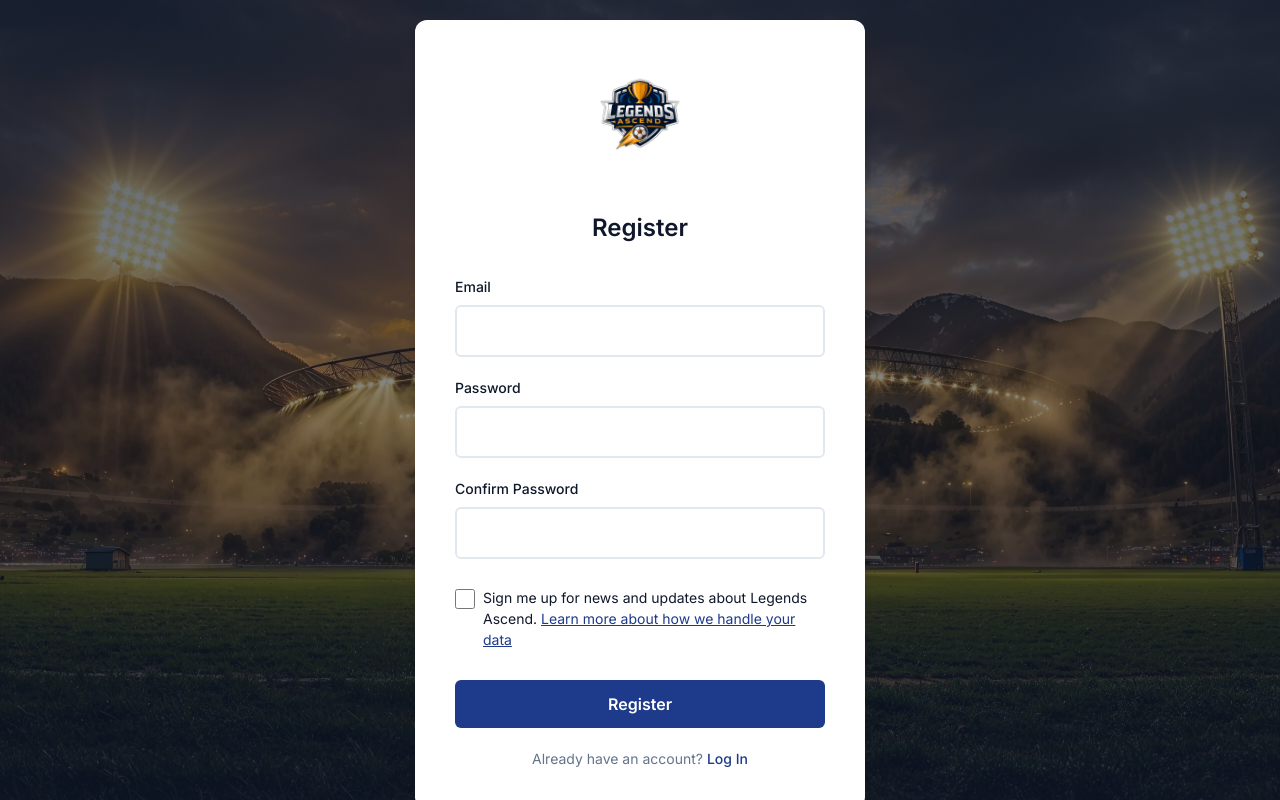
RegisterPage - Newsletter Opt-In (US-048) › Form validation with newsletter checkbox › should still show password validation errors even if newsletter is checked
Step 1. Type "test@example.com" into the field labelled "Email" → (640, 331), box x1=455 y1=305 x2=825 y2=357
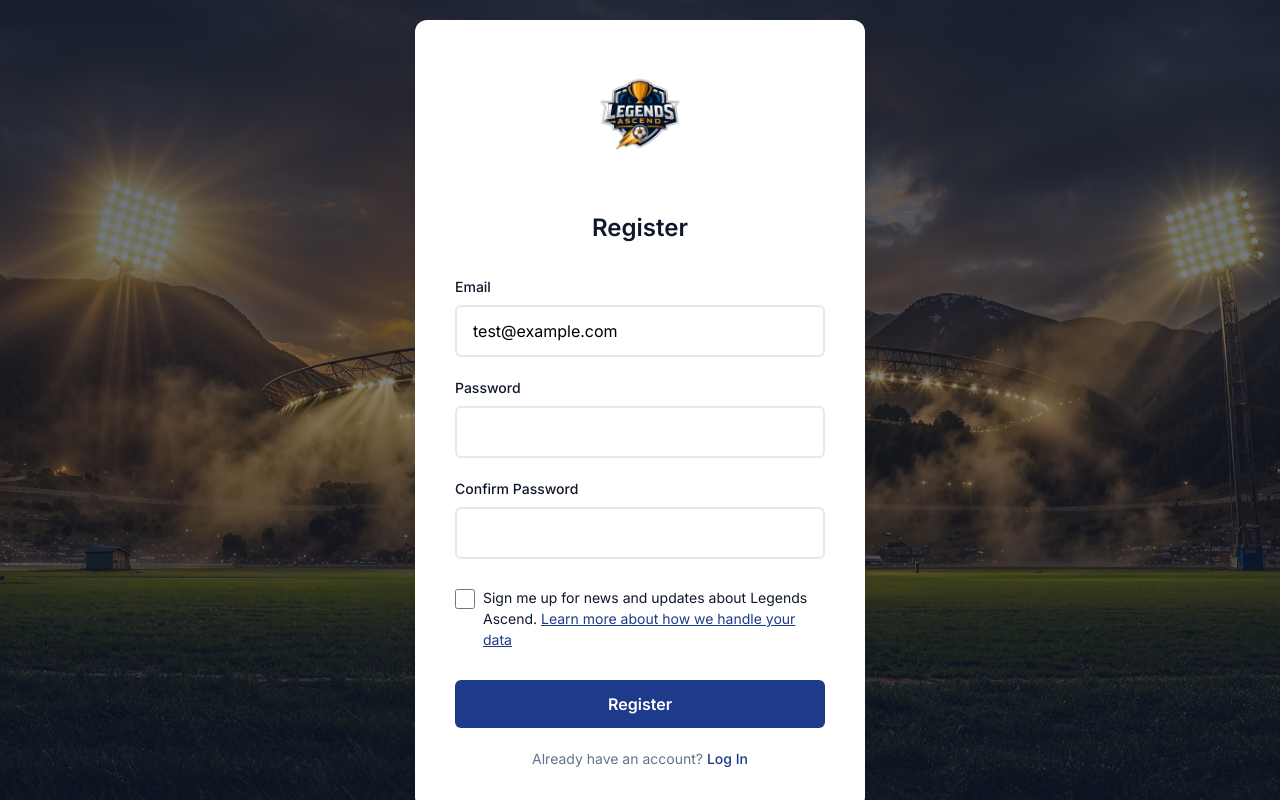
Step 2. Type "weak" into the password field labelled "Password" → (640, 432), box x1=455 y1=406 x2=825 y2=458
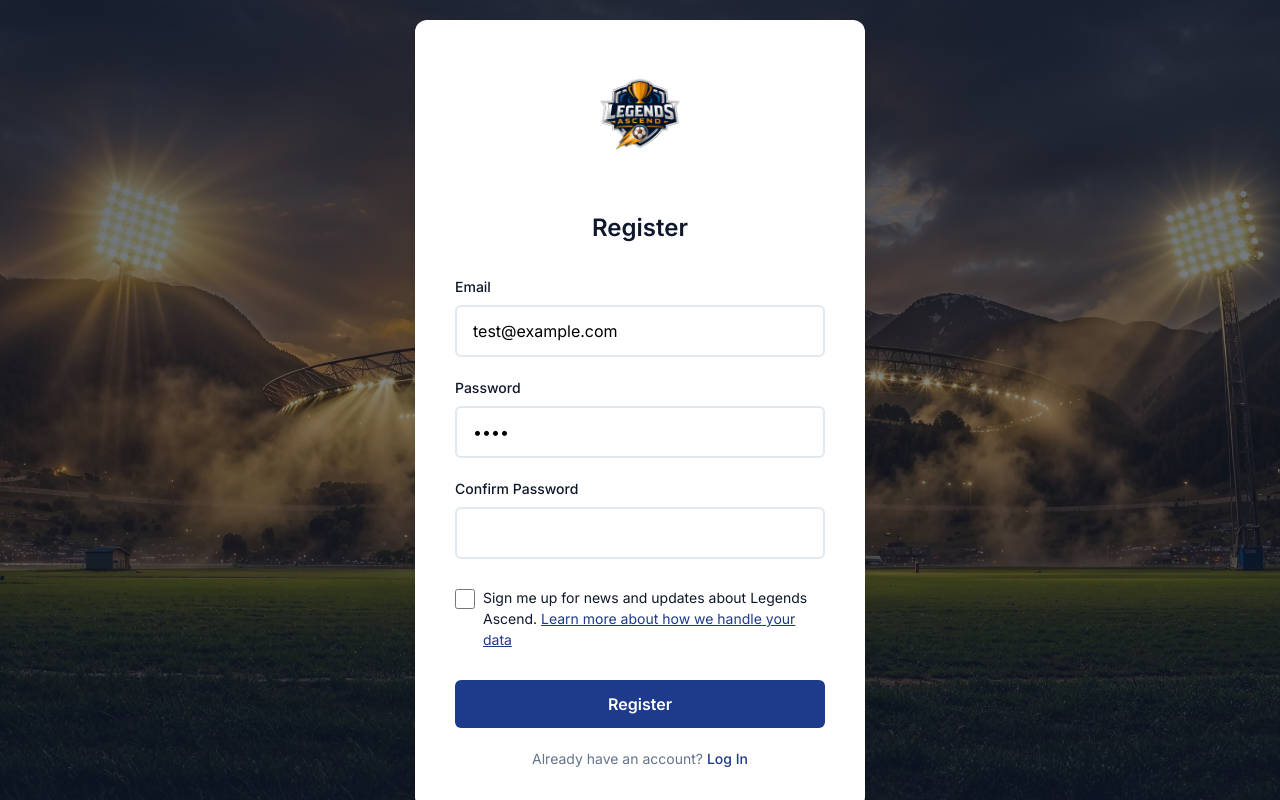
Step 3. Type "weak" into the password field labelled "Confirm Password" → (640, 533), box x1=455 y1=507 x2=825 y2=559
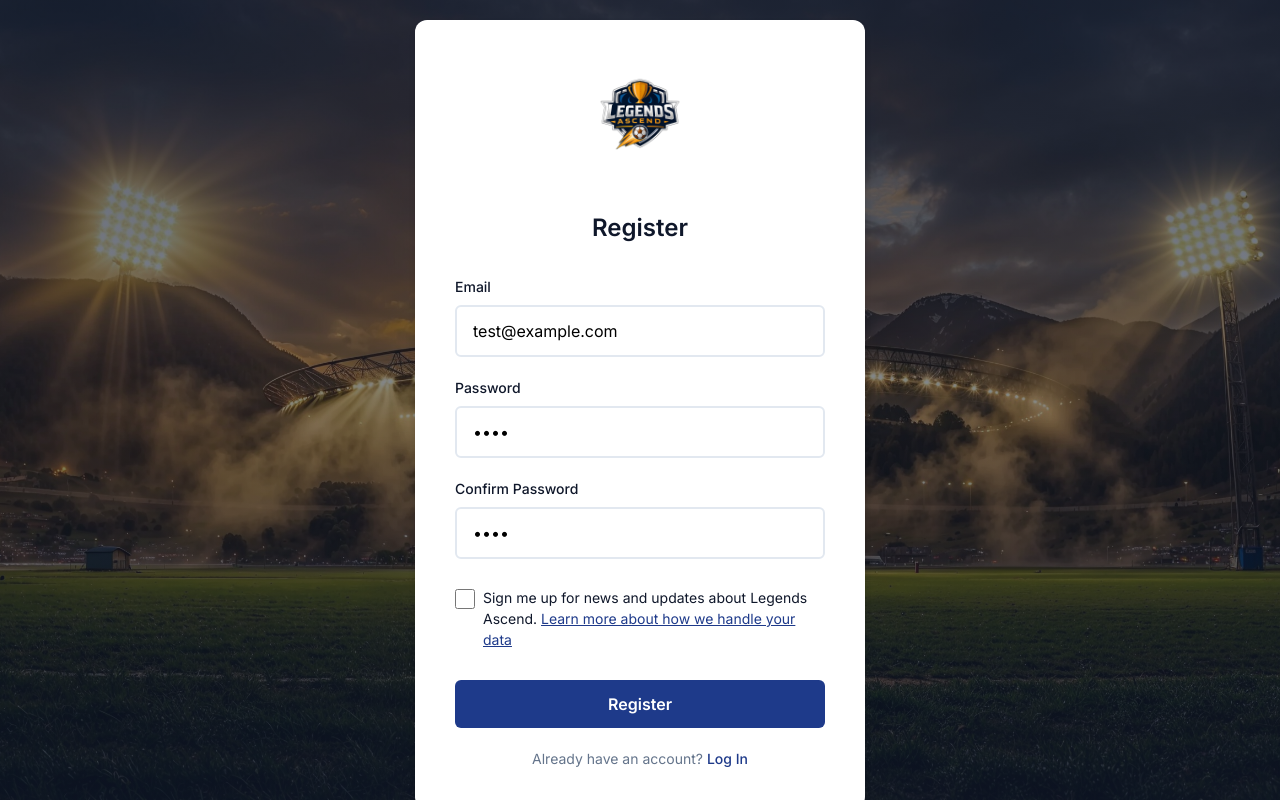
Step 4. Click the checkbox labelled "Sign me up for news and updates" → (465, 599), box x1=455 y1=589 x2=475 y2=609
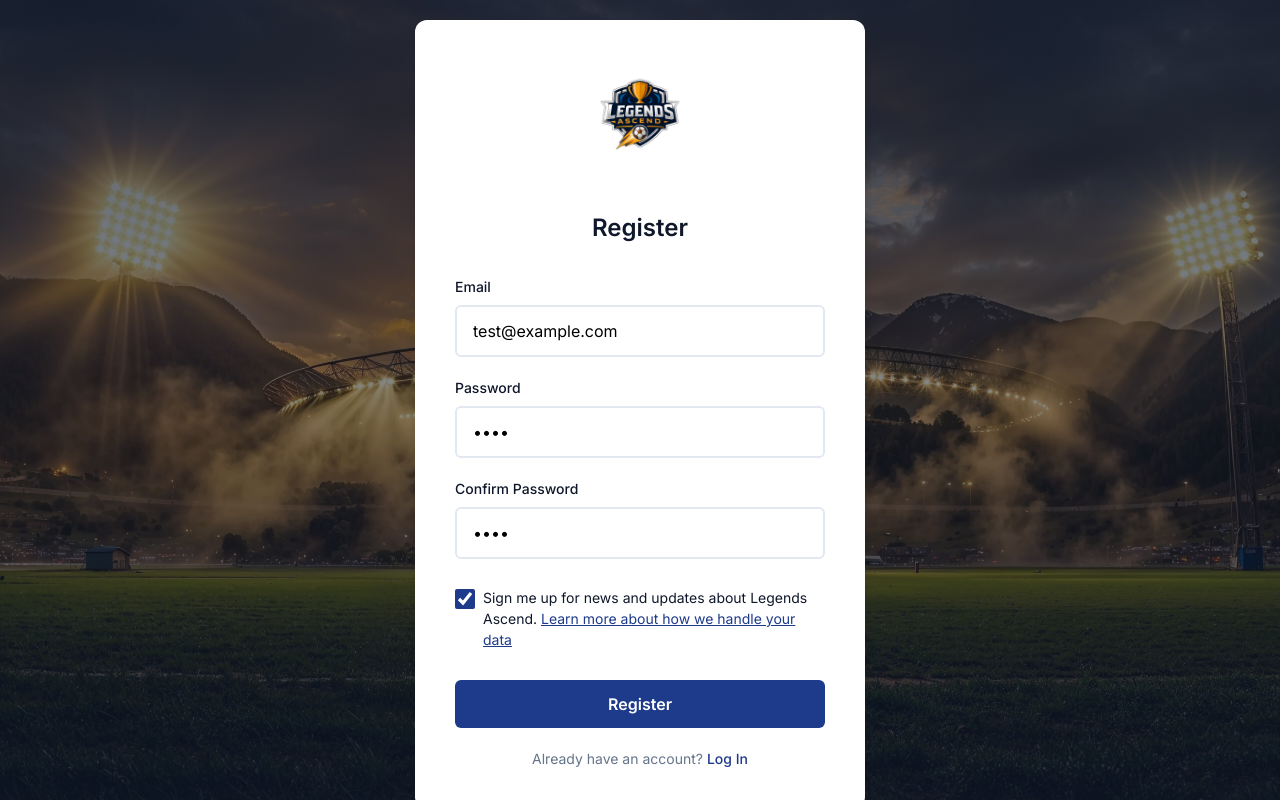
Step 5. Click the button "Register" → (640, 704), box x1=455 y1=680 x2=825 y2=728
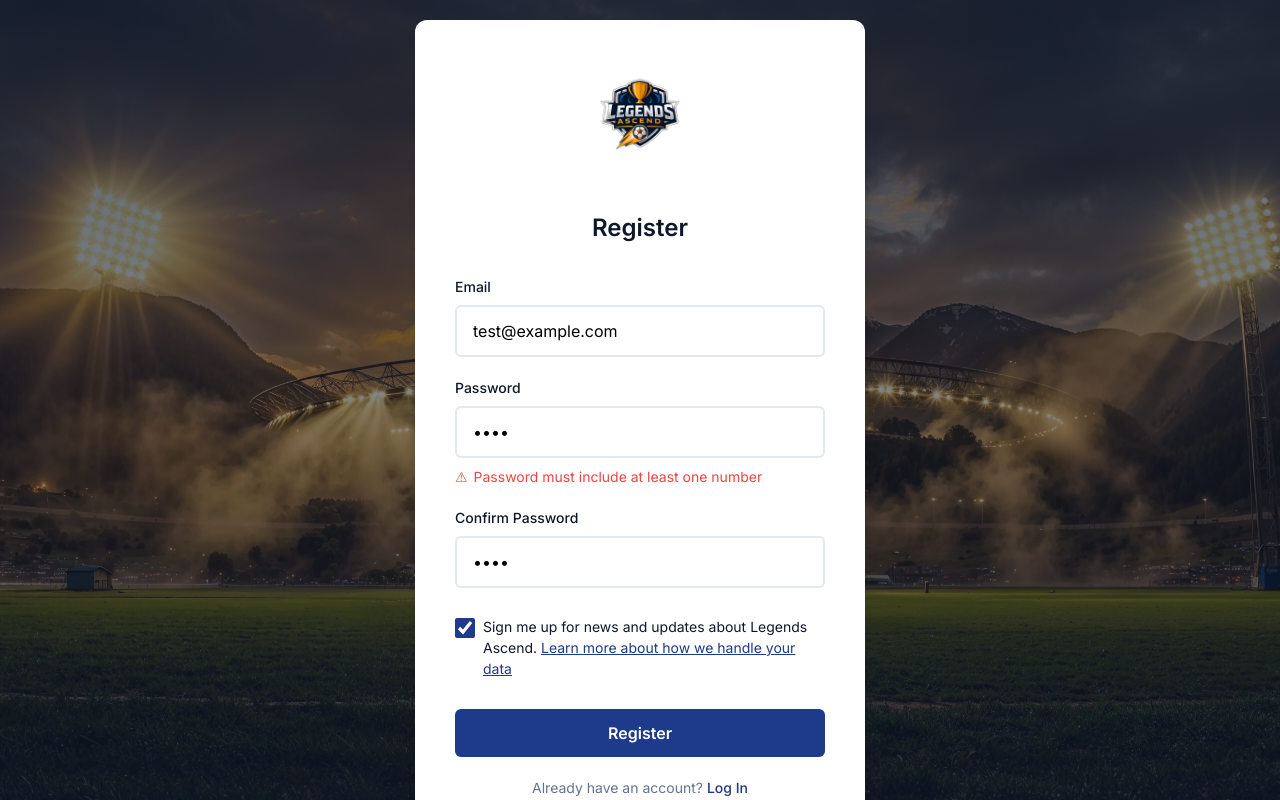
Now the message "Password must include at least one number" is shown, box x1=474 y1=468 x2=762 y2=485
